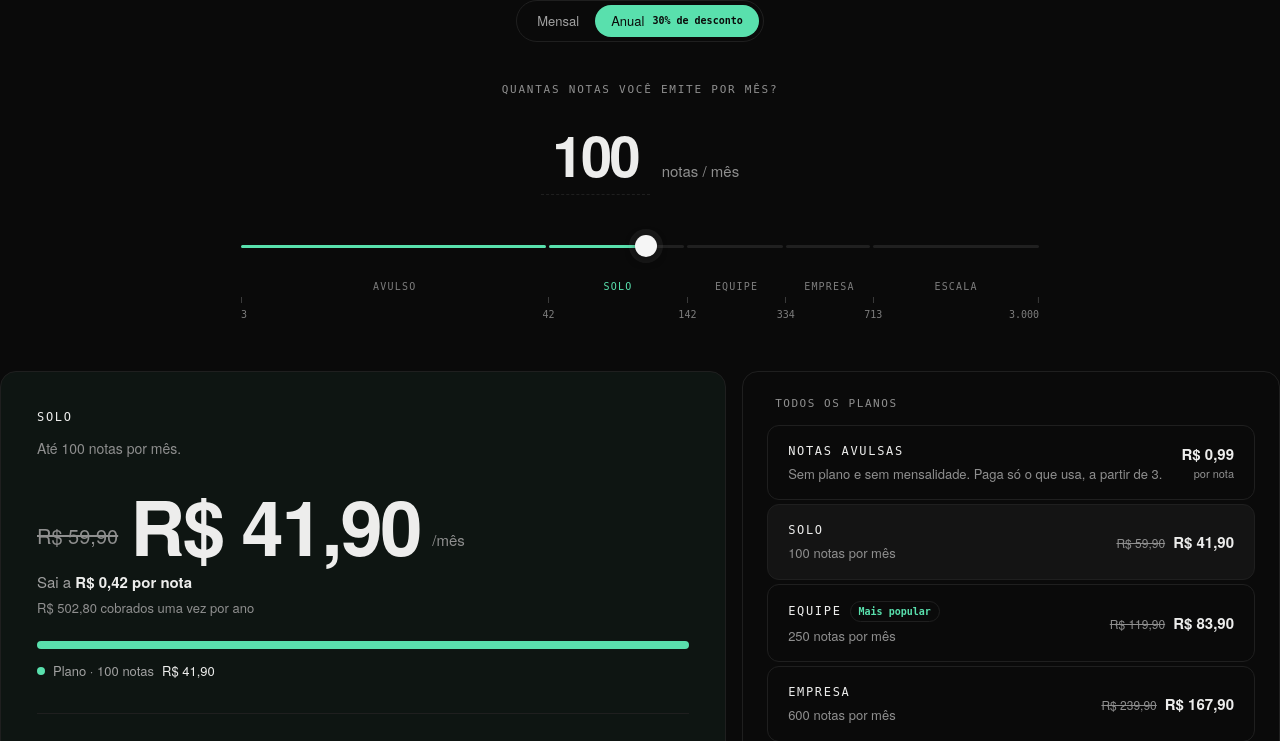
plan picker › typing 110 notes recommends Solo plus 10 single notes
This screenshot has width=1280, height=741.
Click the radio button with test id "cycle-monthly". click: (558, 21)
box: [521,5,595,36]
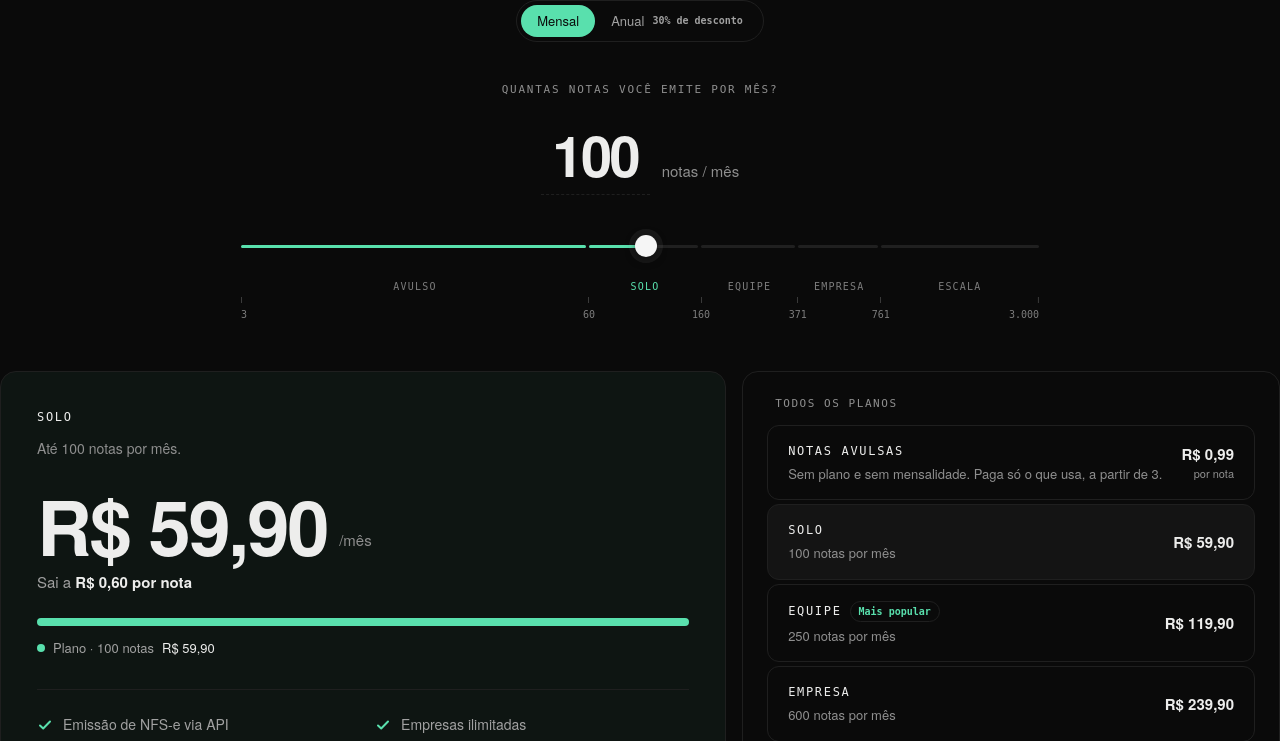
Replace the text in the field named "Quantas notas" with "110". click: (595, 154)
box: [541,114,650,195]
(page scrolled)
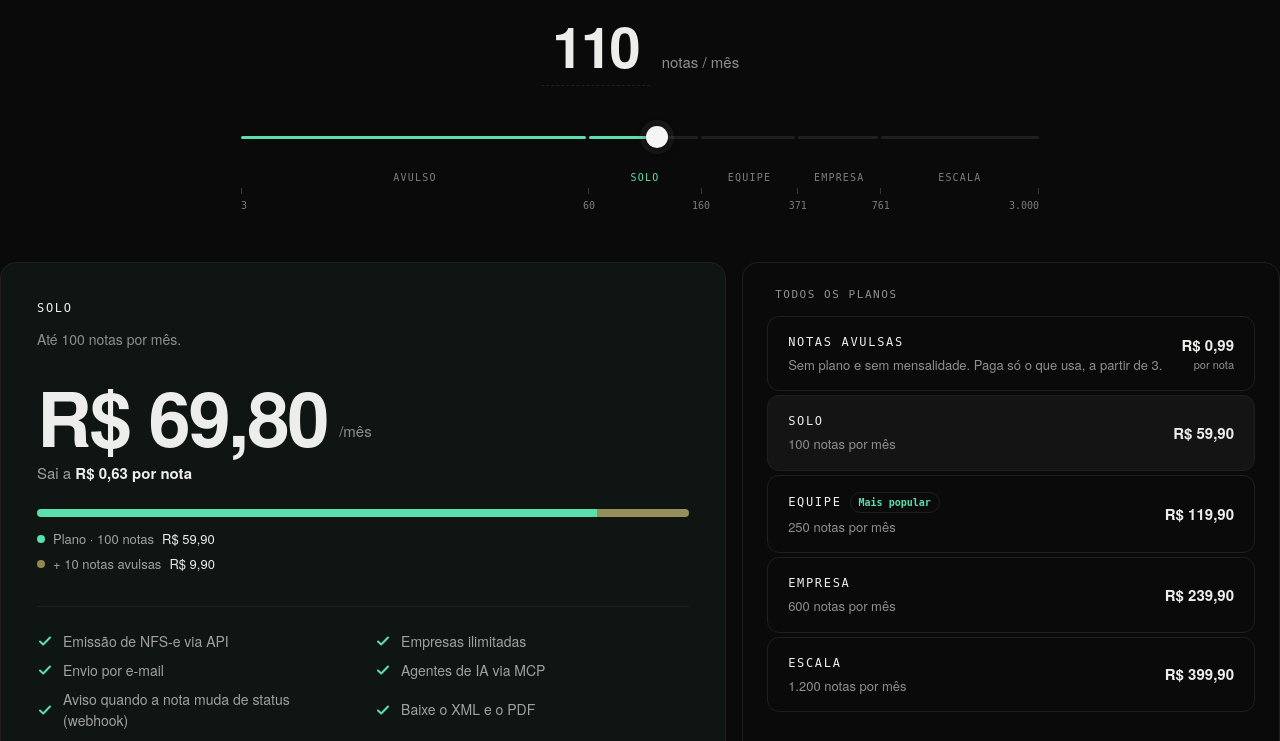
Expected: the element with test id "featured-plan" shows "SOLO", [37,301,73,315]
Now the element with test id "featured-plan" shows "R$ 69,80", box [37,361,327,470]
